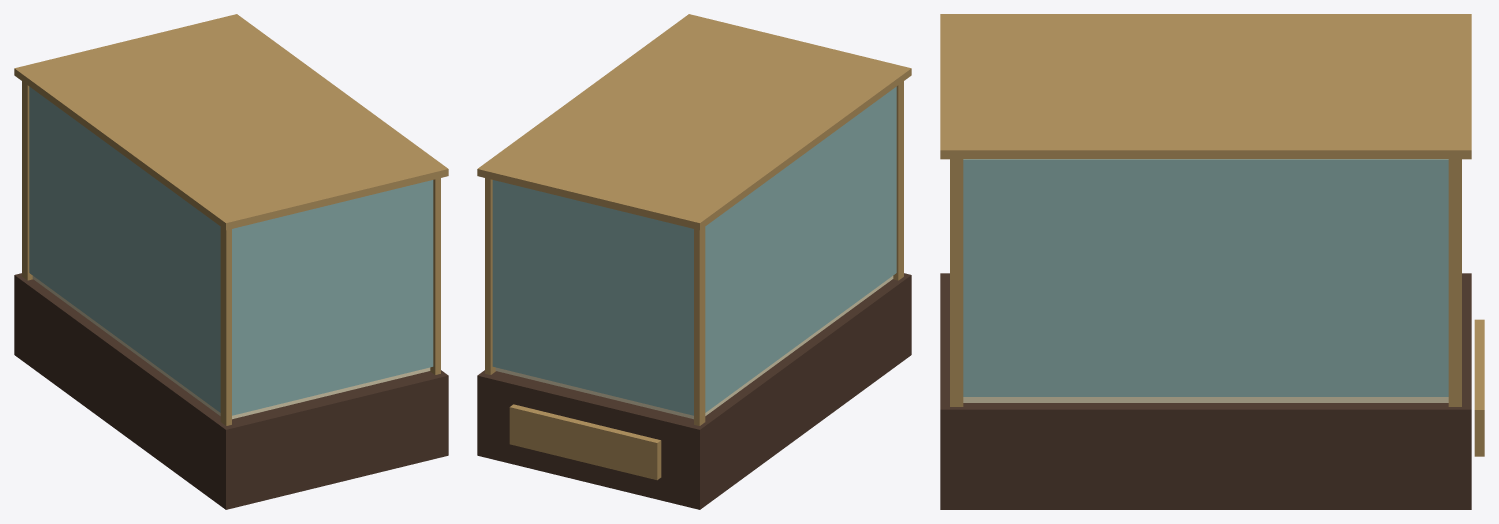
Rendered from LP_Exhibition_CaseWest.fbx.
3 views of the same model, side by side, from view 1: azimuth 30°, elevation 25°; view 2: azimuth 150°, elevation 25°; view 3: azimuth 270°, elevation 25° (orthographic). The views are drawn at different scales.
Parts seen in each view (by area): view 1: M_Museum_DisplayGlass, AgedBrass, Walnut, WarmIvory; view 2: M_Museum_DisplayGlass, AgedBrass, Walnut, WarmIvory; view 3: M_Museum_DisplayGlass, AgedBrass, Walnut, WarmIvory.
Boxes of the visible parts, bbox=[...] form: M_Museum_DisplayGlass: bbox=[29, 86, 433, 415]; AgedBrass: bbox=[14, 14, 448, 425]; Walnut: bbox=[14, 273, 448, 509]; WarmIvory: bbox=[32, 276, 430, 419]; M_Museum_DisplayGlass: bbox=[492, 86, 896, 415]; AgedBrass: bbox=[477, 14, 911, 480]; Walnut: bbox=[477, 273, 911, 509]; WarmIvory: bbox=[495, 276, 893, 419]; M_Museum_DisplayGlass: bbox=[963, 159, 1448, 396]; AgedBrass: bbox=[940, 14, 1484, 456]; Walnut: bbox=[940, 273, 1471, 509]; WarmIvory: bbox=[963, 397, 1448, 402].
Size of the model in its own units: 130 by 160 by 219.
